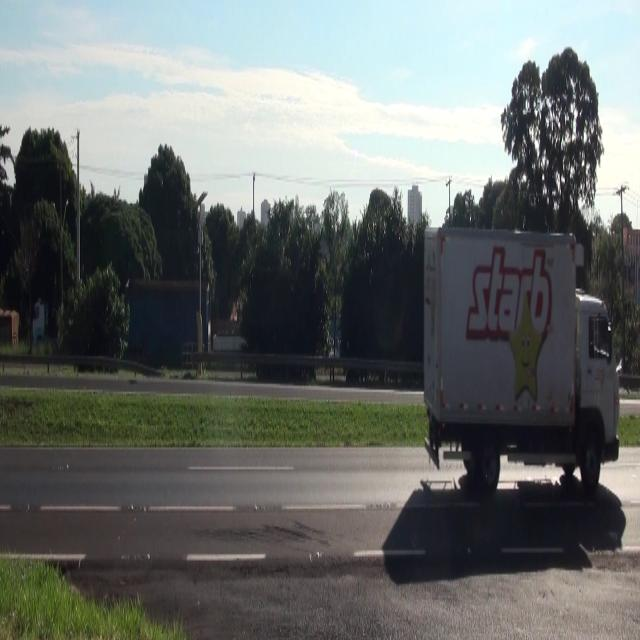-axle: (475, 423, 500, 490), (583, 436, 603, 494)
